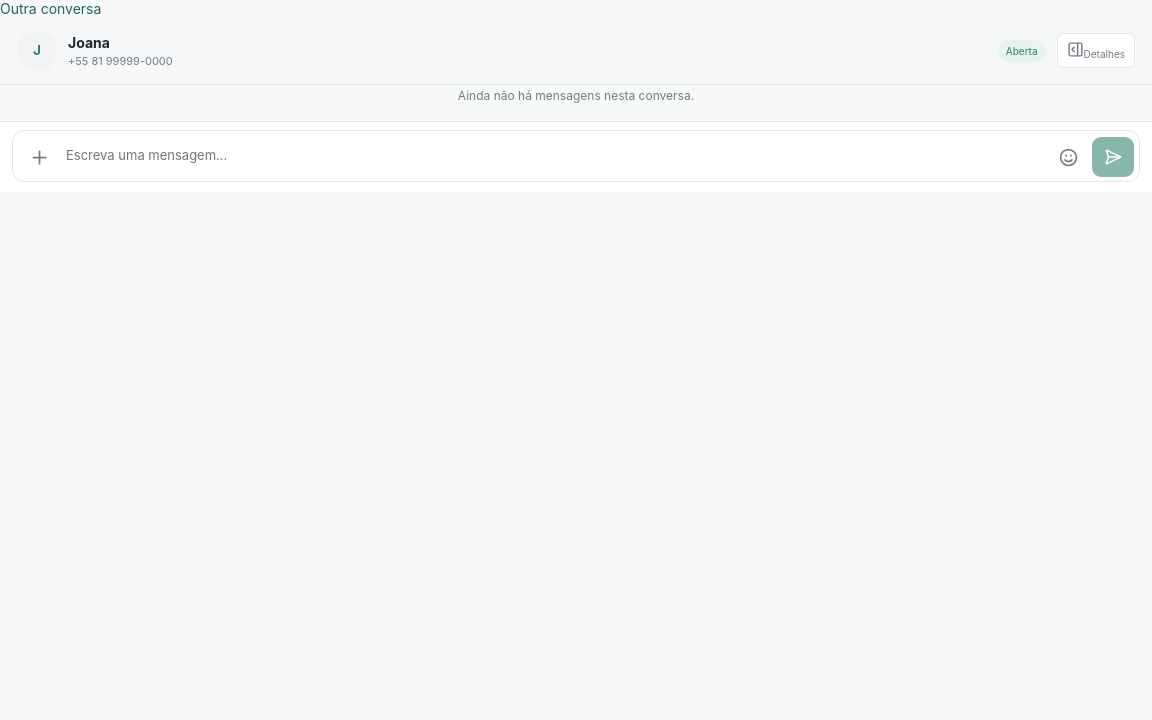
Scenario: ConversationView › opens the details drawer without remounting the message history and returns focus on Escape
The image size is (1152, 720).
(page scrolled)
Expected: the heading "Joana" is shown, left=68, top=34, right=110, bottom=50
Click the button with aria-label "Mostrar detalhes da conversa".
click(1096, 50)  # box left=1057, top=33, right=1135, bottom=68
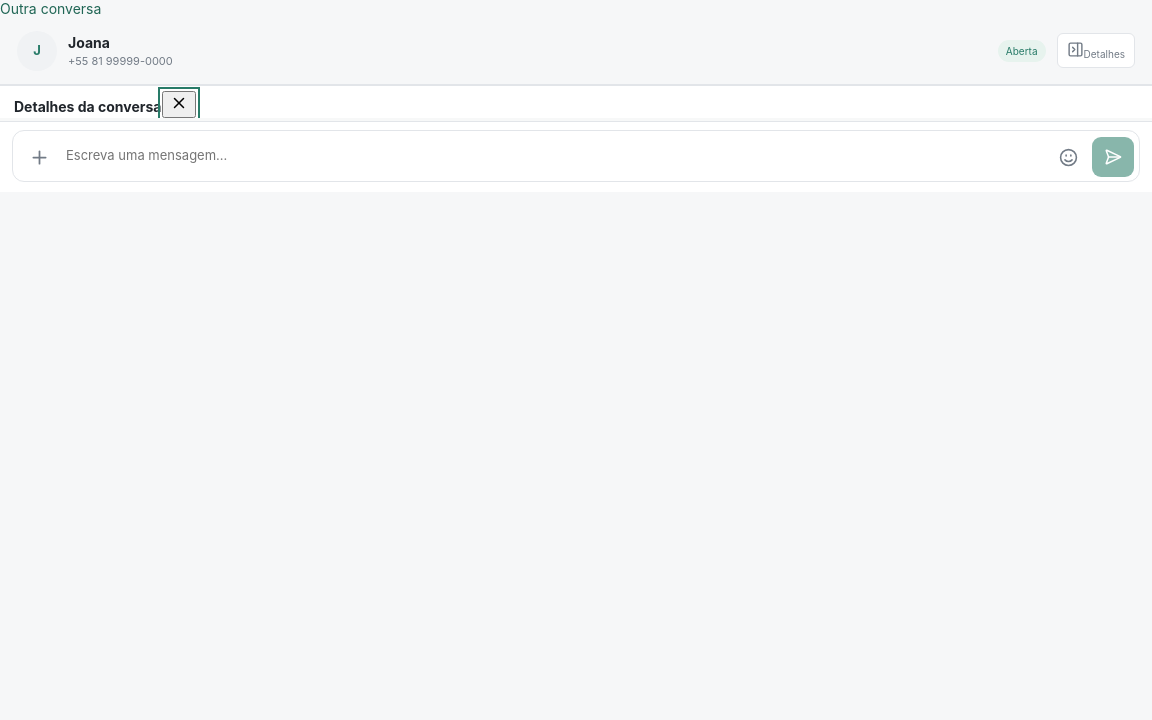
Press Escape in the dialog "Detalhes da conversa", box left=0, top=85, right=1151, bottom=118
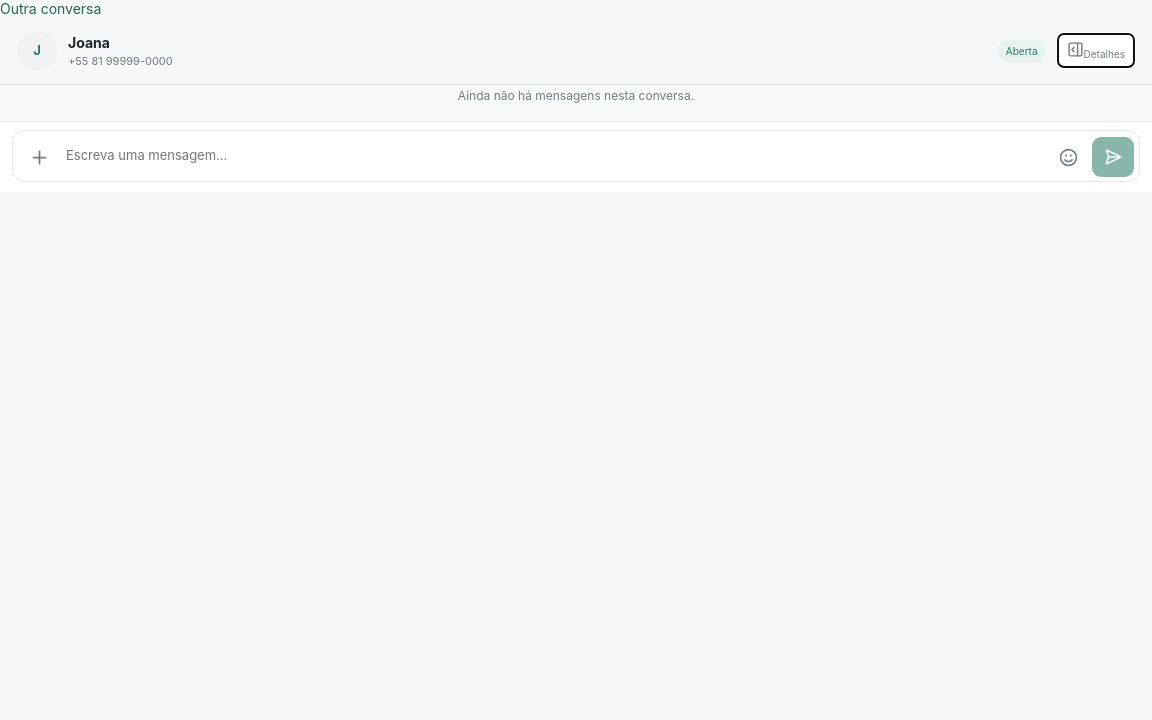
Expected: the text "Detalhes da conversa" is gone
Expected: the button with class "context-backdrop" is gone
